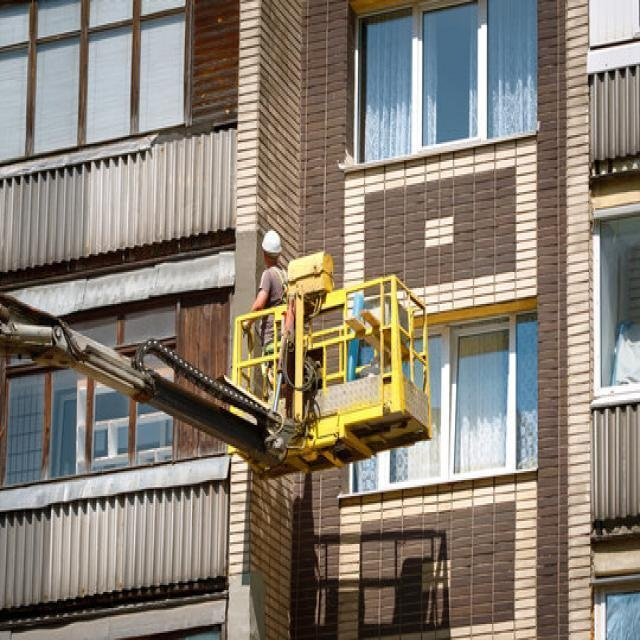Arnes_seguridad: (264, 266, 288, 357)
